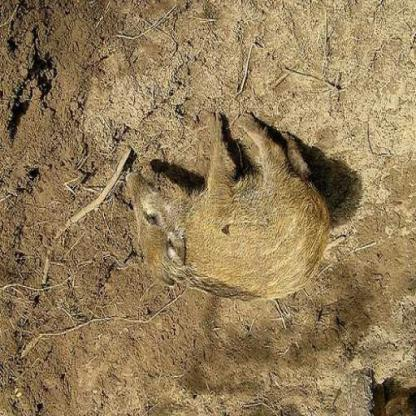boar: (72, 77, 385, 341)
